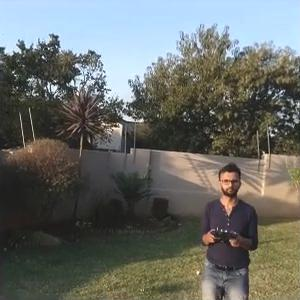follow: (196, 161, 261, 299)
